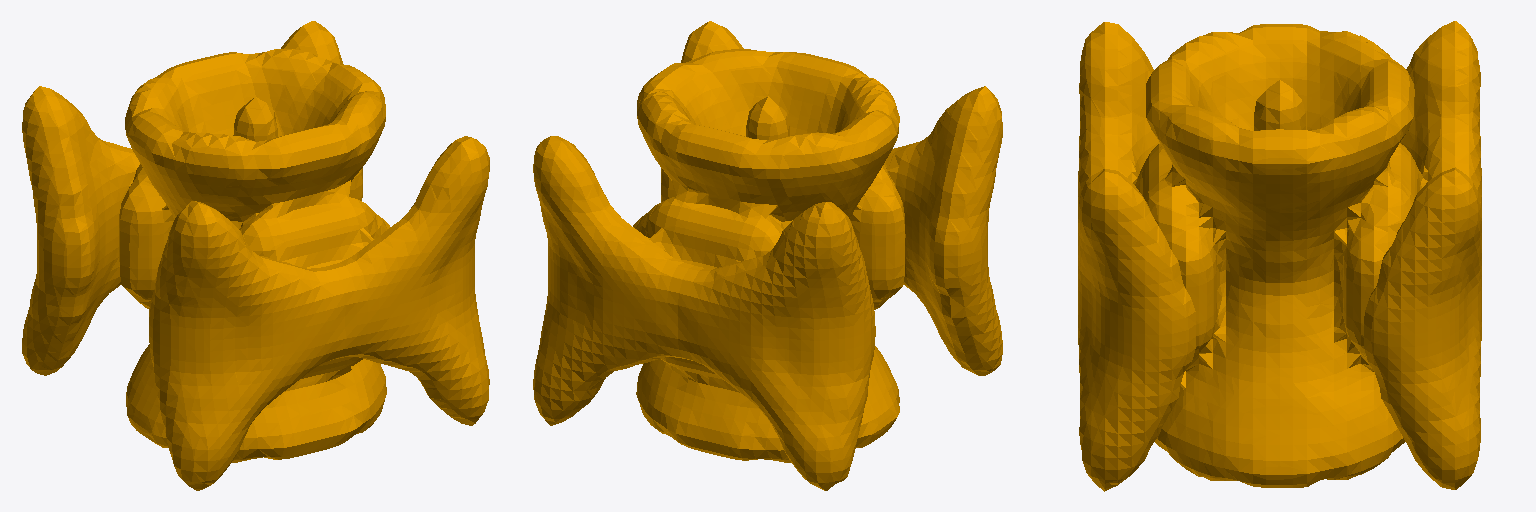
The robot description file, URDF, robot "P16_1":
<?xml version="1.0"?>
<robot name="P16_1">
  <link name="base_link">
    <inertial>
      <mass value="0.10879" />
      <origin xyz="0 0 0" />
      <inertia  ixx="0.0002" ixy="0.0"  ixz="0.0"  iyy="0.0002"  iyz="0.0" izz="0.0002" />
    </inertial>
    <visual>
      <geometry>
        <mesh filename="../../../meshes/egad/train/P16_1.obj" />
      </geometry>
    </visual>
    <collision>
      <geometry>
        <mesh filename="../../../meshes/egad/train/P16_1.obj" />
      </geometry>
    </collision>
  </link>
</robot>

--- Render facts (derived) ---
Views: 3 orthographic renders of the robot side by side, from view 1: azimuth 30°, elevation 25°; view 2: azimuth 150°, elevation 25°; view 3: azimuth 270°, elevation 25°.
Robot: P16_1 — 1 links, 0 joints (none); root link base_link; default pose: all joints at 0.
Links seen in each view (by area): view 1: base_link; view 2: base_link; view 3: base_link.
Boxes of the visible links, box(x1,y1,x2,y2) form: base_link: box(22, 21, 489, 490); base_link: box(533, 21, 1002, 490); base_link: box(1078, 21, 1481, 491).
Bounding box of the posed robot: 0.0609 × 0.0611 × 0.0601 m (x, y, z).
1 mesh visuals loaded from 1 distinct referenced files (1 OBJ).